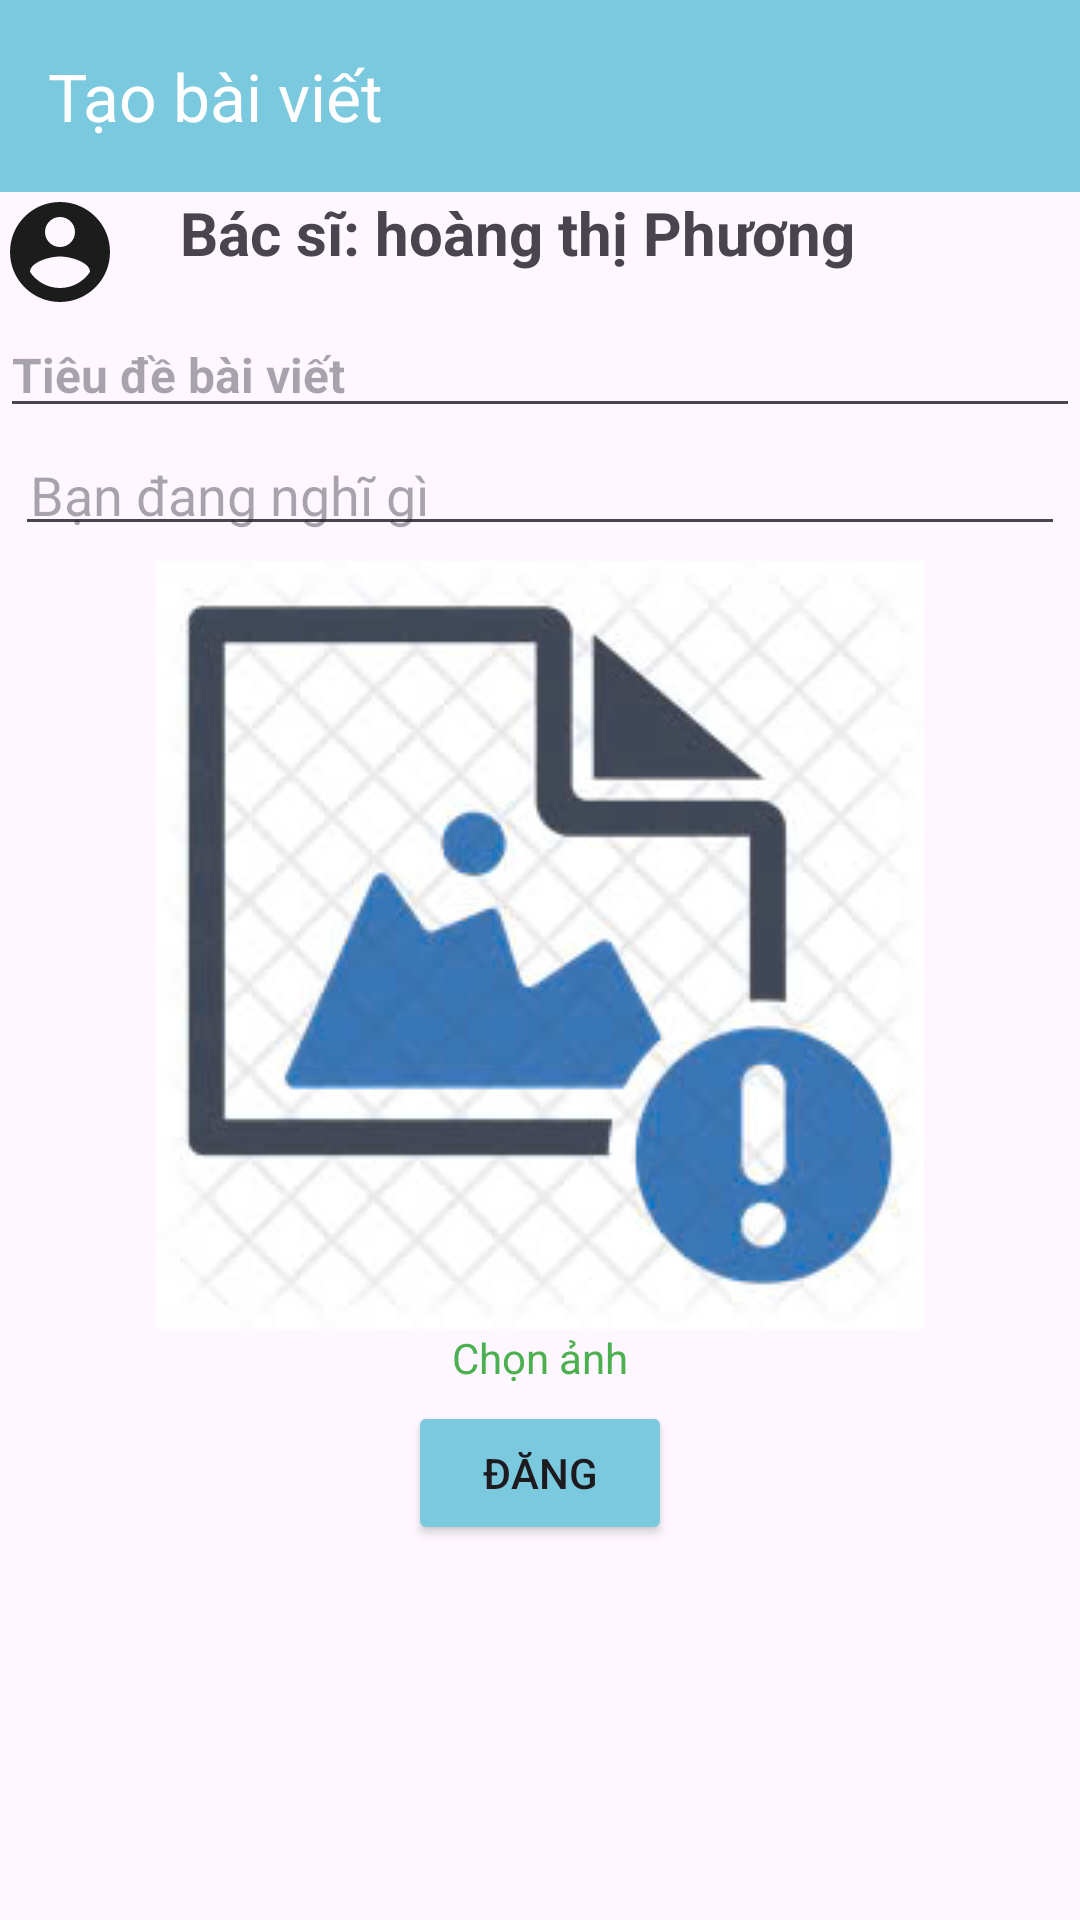

Named icons in this screenshot (1080×1920) and their bounding boxes, box(x1, y1, x2, y2):
account circle: box(10, 202, 110, 302)
